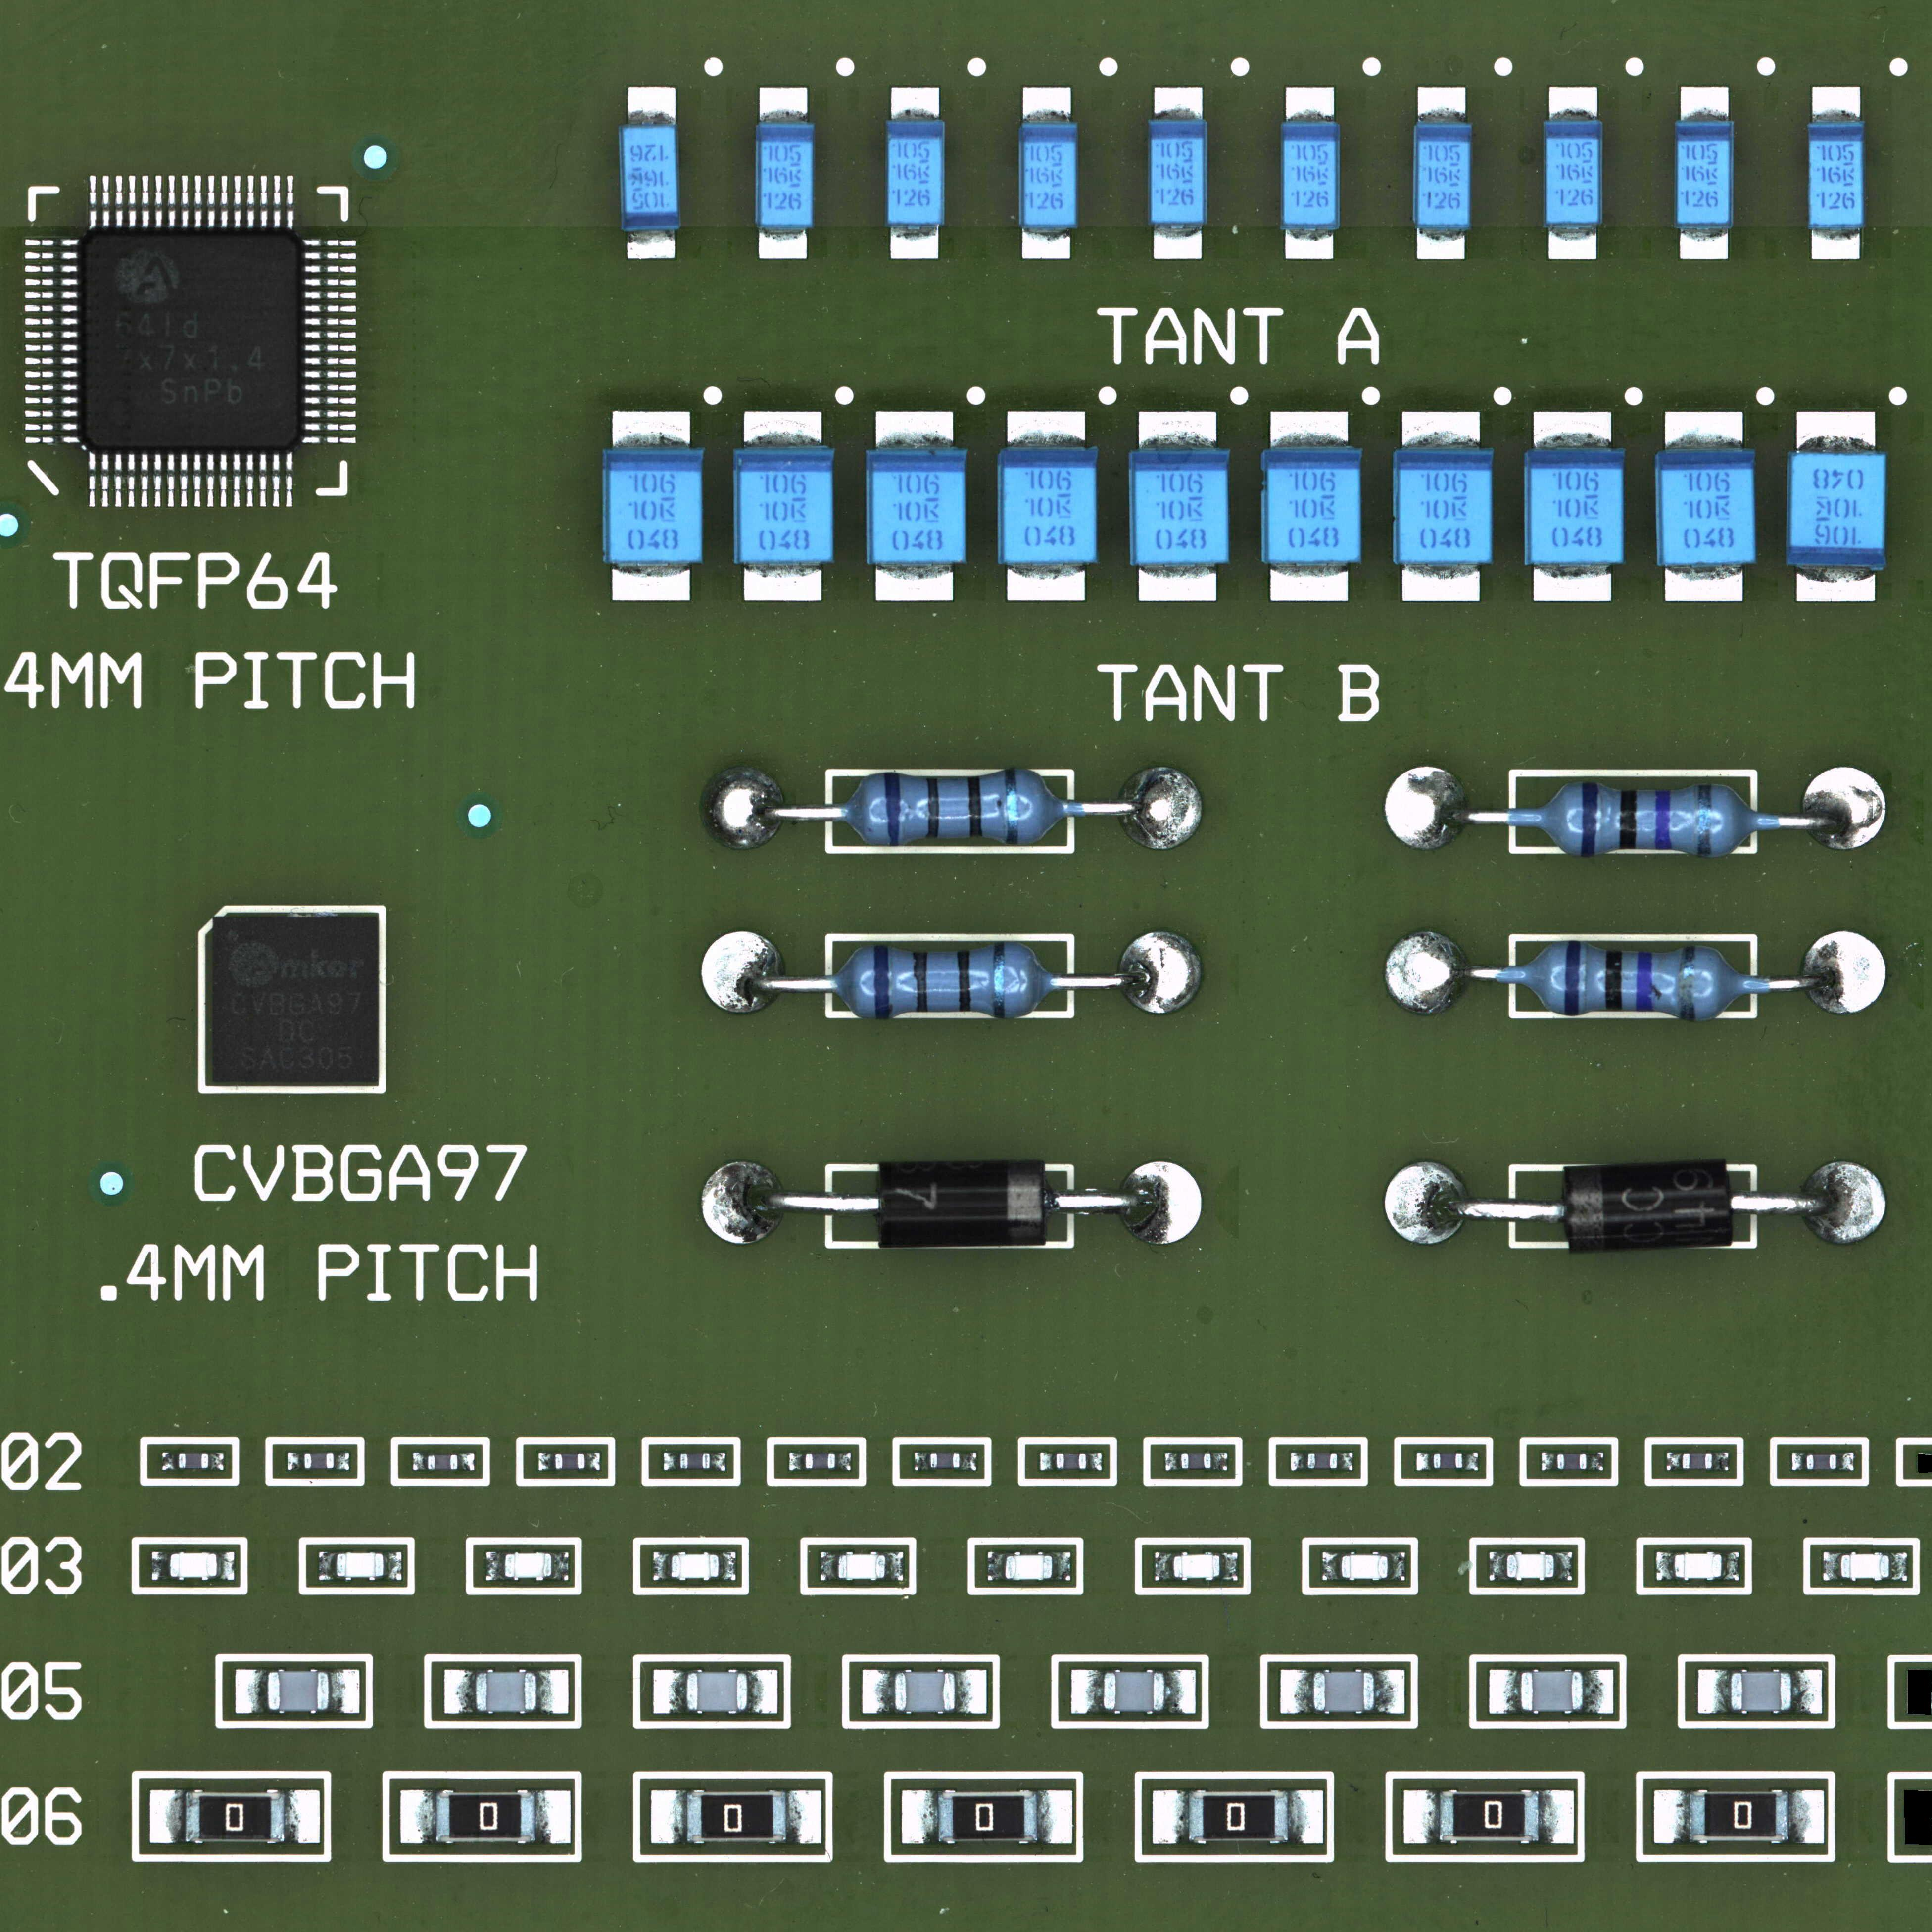Package: (83, 232, 299, 451), (212, 913, 379, 1083), (732, 446, 837, 564), (1522, 448, 1626, 566), (996, 448, 1099, 564), (1392, 448, 1495, 564), (602, 448, 704, 564), (1260, 448, 1362, 563), (865, 449, 968, 564), (1656, 449, 1757, 566), (1129, 449, 1230, 564), (1785, 453, 1886, 566), (617, 124, 681, 232), (1279, 122, 1341, 230), (1017, 122, 1079, 228), (1674, 120, 1734, 228), (755, 122, 816, 228), (885, 120, 945, 226), (1543, 120, 1603, 226), (1412, 122, 1472, 228), (1148, 120, 1208, 226), (1808, 122, 1865, 226), (1189, 1790, 1288, 1842), (1690, 1790, 1789, 1842), (1440, 1790, 1539, 1842), (686, 1792, 787, 1842), (435, 1792, 536, 1842), (938, 1792, 1039, 1842), (186, 1792, 285, 1842), (267, 1672, 329, 1711), (1522, 1672, 1583, 1711), (1730, 1672, 1792, 1711), (1102, 1672, 1164, 1711), (1313, 1672, 1375, 1711), (895, 1672, 955, 1711), (476, 1672, 536, 1711), (686, 1674, 748, 1711), (504, 1553, 552, 1578), (170, 1553, 218, 1578), (1005, 1555, 1053, 1580), (1507, 1553, 1555, 1578), (1675, 1553, 1721, 1578), (1842, 1555, 1890, 1578), (1173, 1555, 1221, 1578), (336, 1553, 384, 1576), (1341, 1555, 1389, 1578), (672, 1555, 718, 1578), (839, 1555, 885, 1578), (805, 1453, 835, 1470), (1056, 1453, 1086, 1470), (554, 1454, 586, 1470), (1806, 1454, 1836, 1470), (1433, 1453, 1463, 1468), (1557, 1454, 1587, 1470), (428, 1454, 458, 1470), (1182, 1453, 1212, 1468), (1683, 1454, 1713, 1470), (304, 1453, 334, 1468), (1307, 1453, 1338, 1468), (931, 1453, 961, 1468), (679, 1454, 709, 1468), (179, 1454, 209, 1468)
Solder: (1270, 563, 1348, 602), (1798, 412, 1875, 451), (1007, 564, 1086, 602), (1138, 410, 1217, 448), (1401, 564, 1481, 602), (876, 564, 954, 602), (876, 410, 954, 448), (612, 410, 690, 448), (612, 564, 690, 602), (1007, 410, 1085, 448), (1534, 410, 1612, 448), (1665, 412, 1743, 449), (743, 564, 823, 600), (1401, 412, 1481, 448), (1796, 566, 1875, 602), (1139, 566, 1217, 602), (1270, 412, 1348, 448), (1534, 566, 1612, 602), (1665, 566, 1743, 602), (743, 410, 823, 444), (902, 1790, 938, 1845), (651, 1790, 686, 1844), (400, 1790, 435, 1844), (1403, 1790, 1438, 1844), (1789, 1790, 1824, 1844), (1539, 1790, 1575, 1844), (536, 1790, 571, 1844), (150, 1790, 186, 1844), (287, 1789, 320, 1844), (1654, 1790, 1688, 1844), (1154, 1790, 1187, 1844), (1290, 1790, 1323, 1844), (1039, 1790, 1072, 1844), (787, 1790, 821, 1844), (628, 87, 676, 124), (759, 87, 809, 122), (1023, 87, 1072, 122), (1417, 87, 1467, 122), (1286, 87, 1334, 122), (1154, 87, 1203, 120), (1154, 226, 1203, 260), (892, 87, 939, 120), (1550, 87, 1598, 120), (1681, 87, 1729, 120), (1812, 85, 1859, 119), (1812, 226, 1859, 260), (890, 226, 939, 258), (653, 1668, 686, 1714), (536, 1668, 570, 1714), (1417, 228, 1465, 260), (1548, 226, 1596, 258), (1021, 228, 1070, 258), (1697, 1670, 1730, 1714), (1279, 1670, 1313, 1714), (1490, 1668, 1522, 1714), (759, 228, 807, 258), (1681, 228, 1729, 258), (235, 1670, 267, 1714), (1070, 1670, 1102, 1714), (862, 1670, 893, 1714), (1284, 230, 1334, 258), (444, 1668, 474, 1714), (329, 1668, 359, 1714), (955, 1670, 987, 1713), (1792, 1670, 1822, 1714), (1166, 1670, 1196, 1714), (748, 1670, 778, 1714), (1375, 1670, 1405, 1714), (1583, 1670, 1614, 1714), (626, 232, 676, 258), (23, 303, 80, 315), (23, 290, 80, 303), (23, 329, 80, 341), (23, 356, 80, 368), (25, 421, 80, 433), (25, 382, 80, 395), (23, 317, 80, 327), (23, 278, 80, 288), (23, 264, 80, 274), (23, 409, 80, 419), (23, 343, 80, 354), (23, 251, 80, 262), (301, 251, 357, 262), (301, 435, 357, 446), (885, 1552, 904, 1582), (1322, 1552, 1341, 1582), (303, 290, 357, 301), (303, 278, 357, 288), (303, 317, 357, 327), (303, 421, 357, 432), (303, 264, 357, 274), (25, 370, 80, 380), (303, 409, 357, 419), (303, 370, 357, 380), (25, 396, 80, 407), (303, 343, 357, 354), (285, 175, 295, 230), (303, 356, 357, 366), (303, 382, 357, 393), (303, 396, 357, 407), (25, 237, 80, 248), (179, 455, 189, 508), (166, 175, 177, 228), (258, 175, 269, 228), (819, 1552, 839, 1580), (1555, 1552, 1573, 1582), (1822, 1552, 1840, 1582), (384, 1552, 402, 1582), (1890, 1552, 1907, 1582), (552, 1552, 570, 1582), (1721, 1552, 1739, 1582), (1053, 1552, 1070, 1582), (487, 1552, 504, 1582), (1389, 1552, 1407, 1582), (1221, 1552, 1238, 1580), (653, 1552, 671, 1580), (1656, 1552, 1674, 1580), (258, 453, 267, 510), (25, 435, 81, 444), (127, 453, 136, 510), (140, 453, 149, 510), (301, 239, 357, 248), (285, 451, 294, 508), (152, 1552, 170, 1580), (318, 1552, 336, 1580), (987, 1552, 1005, 1580), (1155, 1552, 1173, 1580), (1490, 1552, 1507, 1580), (303, 304, 357, 313), (205, 453, 214, 508), (180, 173, 189, 228), (232, 453, 241, 508), (101, 453, 110, 508), (303, 331, 357, 340), (154, 173, 163, 228), (152, 453, 161, 508), (113, 453, 122, 508), (166, 453, 175, 508), (88, 175, 97, 230), (720, 1552, 736, 1582), (193, 455, 202, 508), (207, 175, 216, 228), (127, 173, 136, 226), (272, 175, 281, 228), (219, 175, 228, 228), (234, 175, 242, 228), (101, 175, 110, 228), (246, 175, 255, 228), (142, 175, 150, 228), (115, 175, 124, 226), (218, 1552, 234, 1580), (88, 451, 96, 508), (195, 173, 202, 228), (219, 453, 226, 508), (246, 453, 253, 508), (272, 453, 280, 508), (1836, 1453, 1854, 1472), (1587, 1453, 1603, 1472), (538, 1453, 554, 1472), (663, 1453, 679, 1472), (835, 1453, 851, 1472), (789, 1453, 805, 1472), (1086, 1453, 1102, 1472), (1212, 1453, 1228, 1472), (1338, 1453, 1353, 1472), (1292, 1453, 1307, 1472), (1463, 1453, 1479, 1472), (1713, 1453, 1729, 1472), (334, 1453, 350, 1470), (288, 1453, 304, 1470), (209, 1453, 225, 1470), (163, 1453, 179, 1470), (412, 1453, 428, 1470), (961, 1453, 977, 1470), (1040, 1453, 1056, 1470), (1417, 1453, 1433, 1470), (1541, 1453, 1557, 1470), (1667, 1453, 1683, 1470), (1790, 1453, 1806, 1470), (711, 1453, 725, 1472), (915, 1453, 929, 1472), (458, 1454, 474, 1470), (586, 1453, 600, 1470), (1166, 1453, 1180, 1470)
